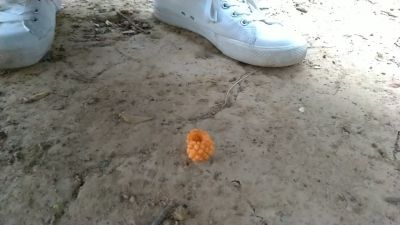eggs: (186, 126, 213, 162)
